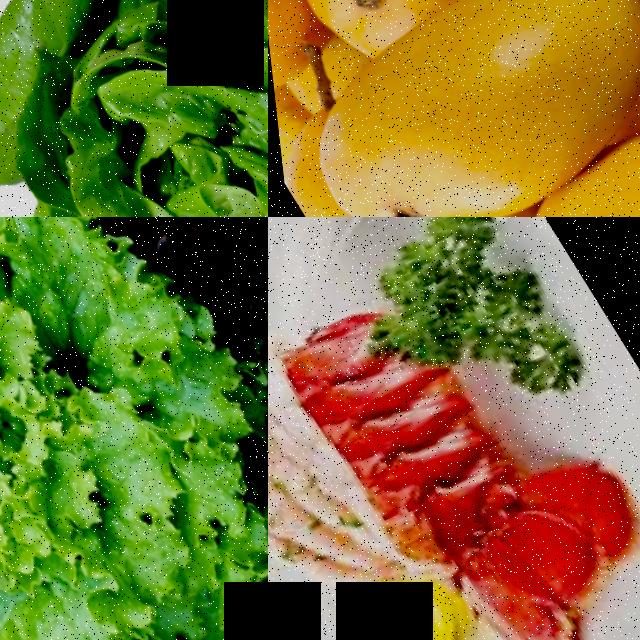lettuce: (0, 217, 268, 640), (0, 0, 268, 217)
lobster tails: (268, 262, 613, 640)
mango: (283, 0, 640, 217), (454, 60, 640, 217), (268, 0, 558, 70)
